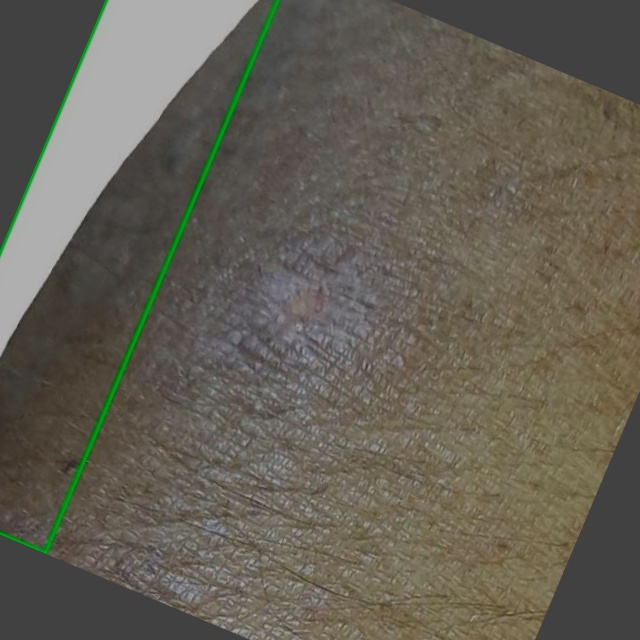Tinea Corporis: (0, 0, 277, 552)
